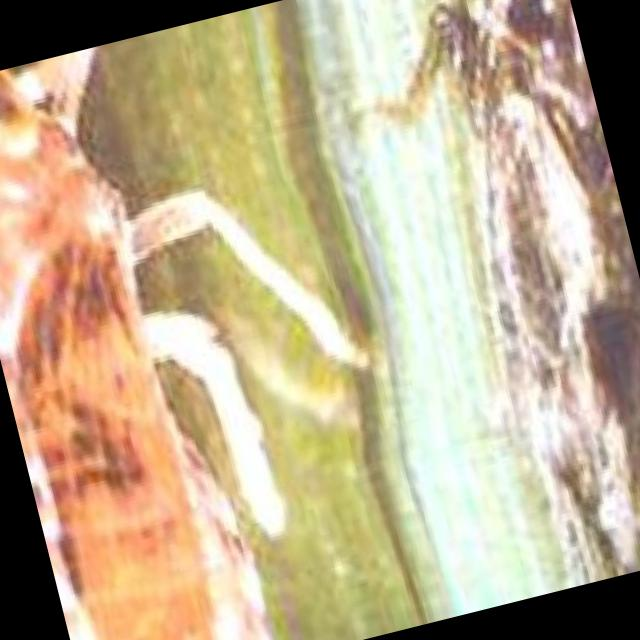brown-planthopper: (0, 95, 278, 640), (396, 0, 640, 592)
